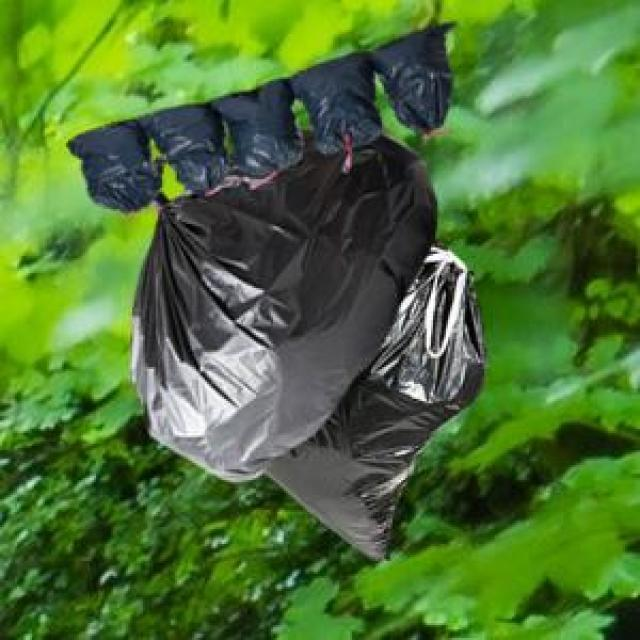Trashbag: (120, 194, 364, 432), (378, 244, 483, 445), (285, 54, 401, 146), (69, 121, 153, 207), (218, 86, 296, 172), (383, 28, 447, 119), (151, 112, 221, 189)
